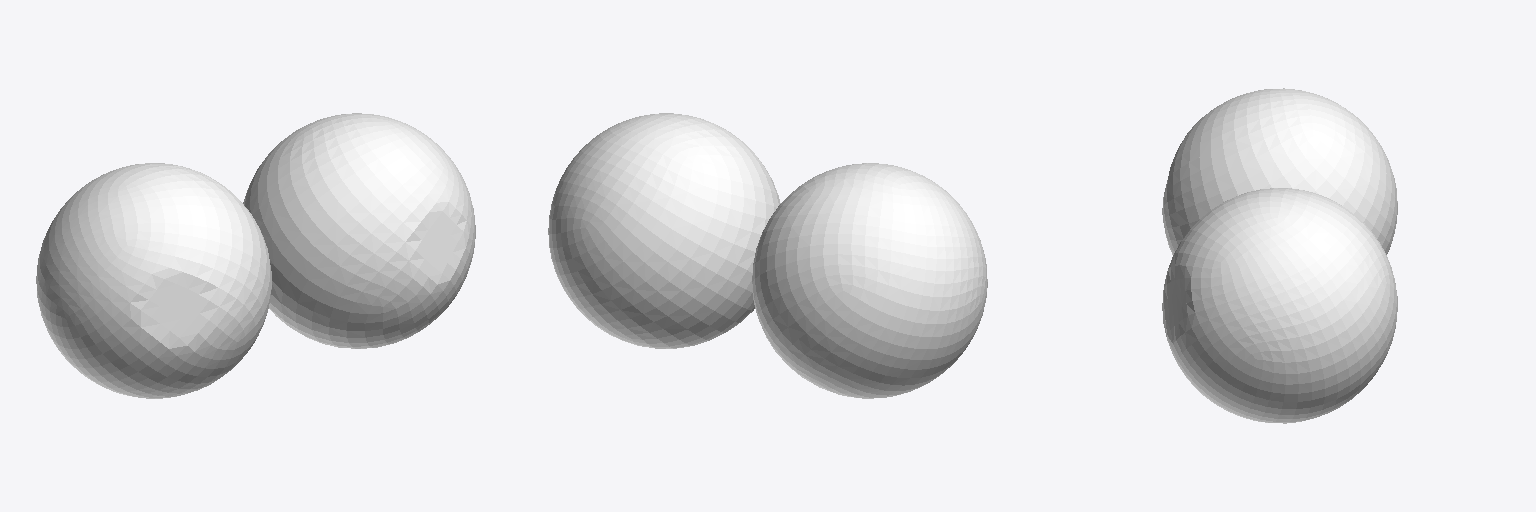
The model's file is blob_eyes_mesh.obj.
The picture shows the model from 3 angles: view 1: azimuth 30°, elevation 25°; view 2: azimuth 150°, elevation 25°; view 3: azimuth 270°, elevation 25°; orthographic projection.
Visible parts, largest first — view 1: eyes_PM3D_Sphere3D1; view 2: eyes_PM3D_Sphere3D1; view 3: eyes_PM3D_Sphere3D1.
Boxes of the visible parts, x1=… form: eyes_PM3D_Sphere3D1: x1=36, y1=113, x2=475, y2=398; eyes_PM3D_Sphere3D1: x1=548, y1=113, x2=987, y2=398; eyes_PM3D_Sphere3D1: x1=1162, y1=88, x2=1397, y2=423.
Bounding box in the file's own units: 0.3317 × 0.1661 × 0.166.